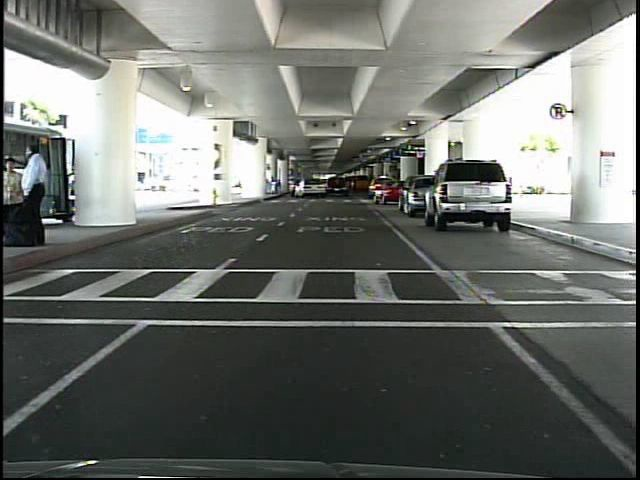person: (22, 145, 54, 244), (6, 154, 29, 250)
